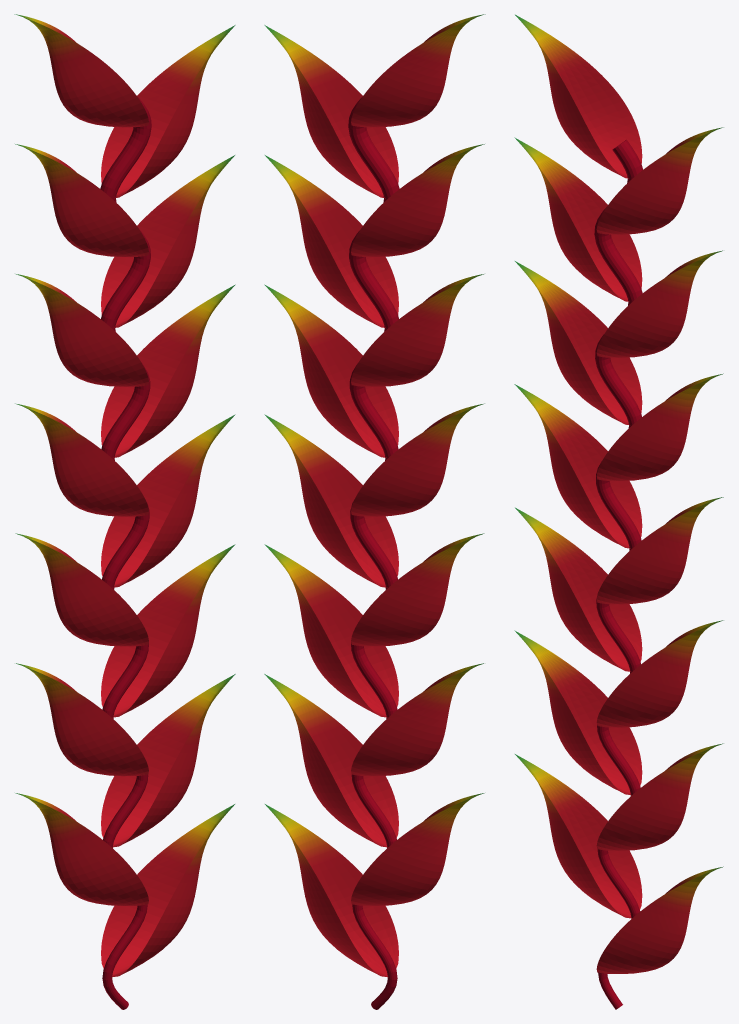
File: heliconia_rostrata.obj
3 renders of one model, left to right at view 1: azimuth 30°, elevation 25°; view 2: azimuth 150°, elevation 25°; view 3: azimuth 330°, elevation 25°, orthographic. The views are drawn at different scales.
Bounding box in the file's own units: 150 × 661 × 44.93.
